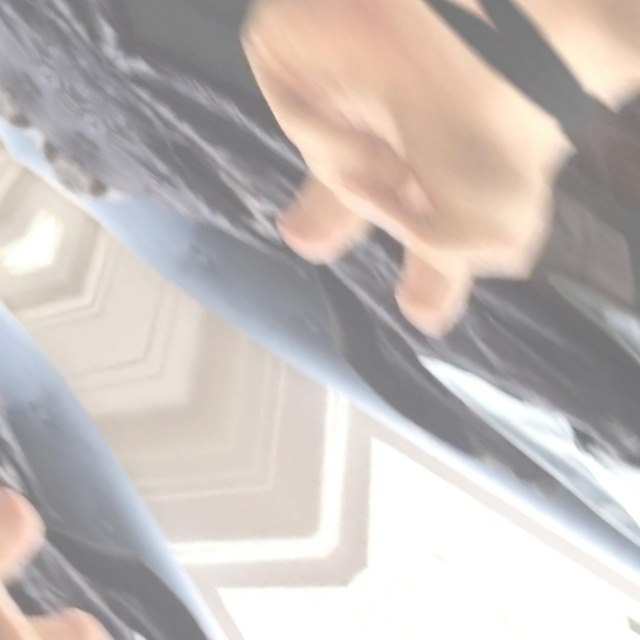Scissors: (0, 0, 281, 68)
